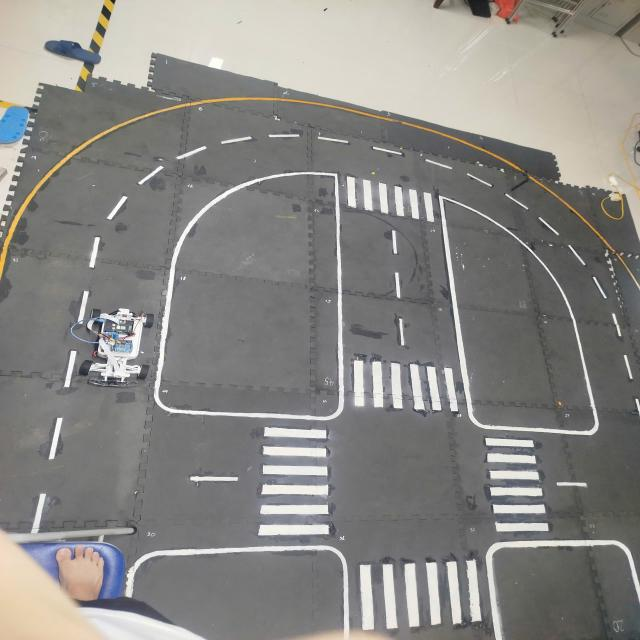SiCo-CAR: (76, 306, 150, 388)
